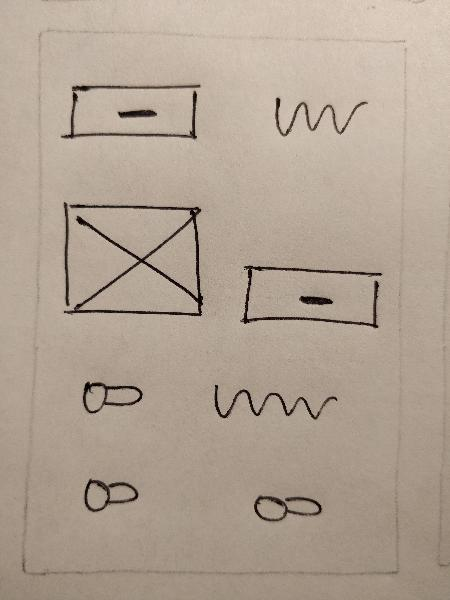button: (229, 254, 389, 337), (56, 78, 207, 148)
image: (54, 195, 212, 324)
switch: (250, 481, 329, 531), (76, 468, 158, 516), (71, 377, 150, 419)
text: (201, 375, 345, 429), (262, 83, 376, 148)
